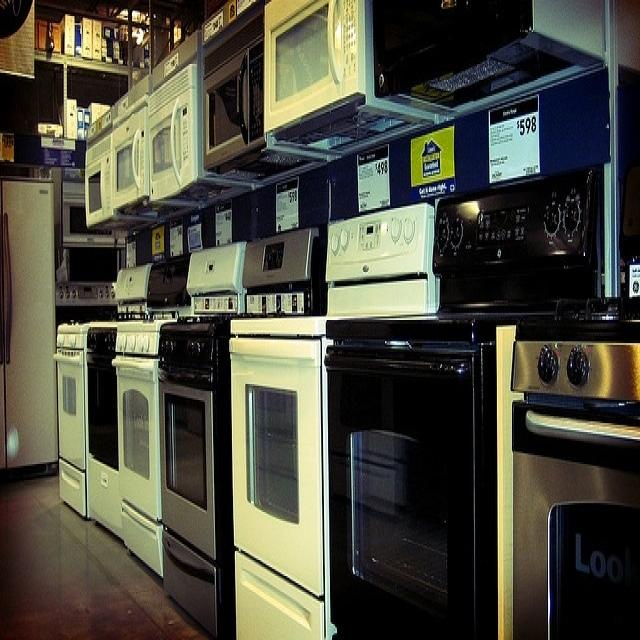E-waste: (55, 192, 640, 640), (76, 0, 499, 206), (0, 146, 64, 489)
